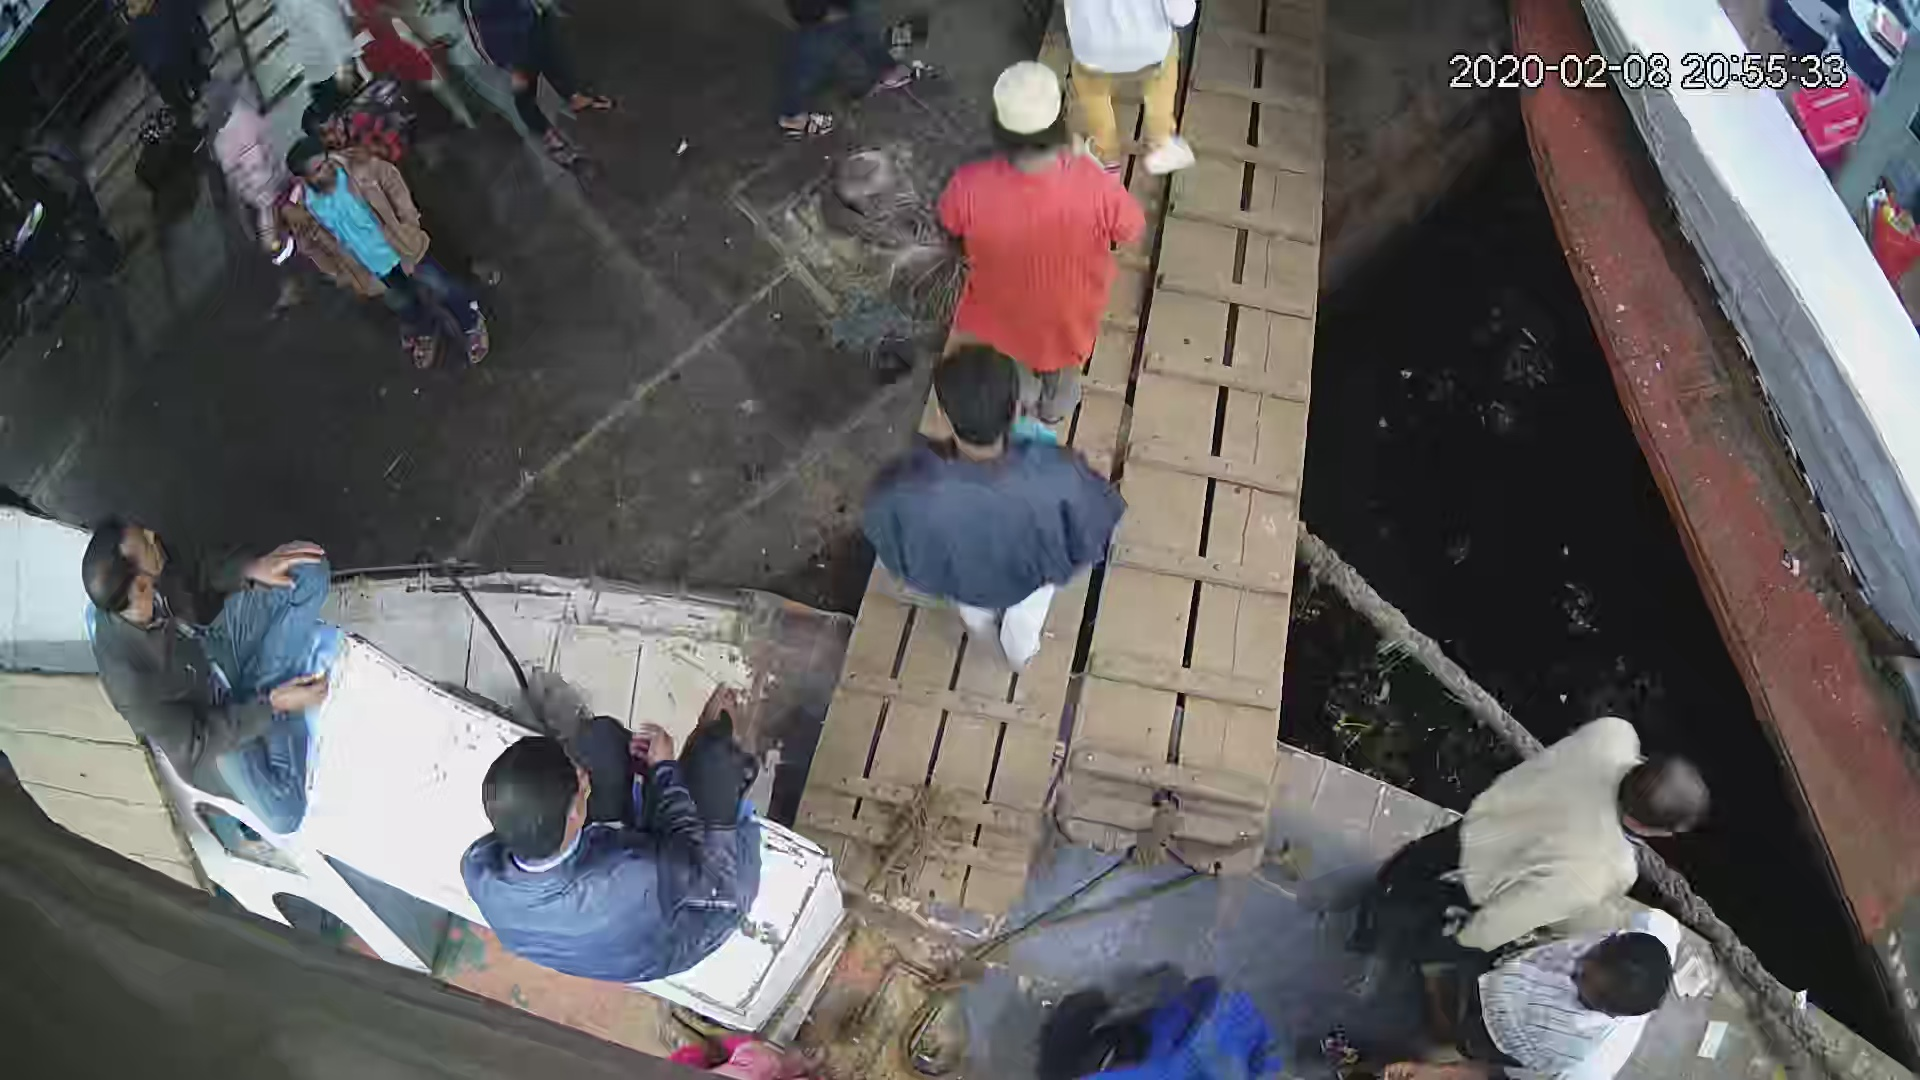person: (457, 673, 766, 990), (1354, 708, 1720, 953), (866, 344, 1123, 678), (78, 513, 341, 834), (940, 60, 1147, 407), (278, 131, 496, 375), (1393, 912, 1697, 1080), (183, 80, 305, 297), (457, 1, 621, 160), (1060, 1, 1202, 168)
